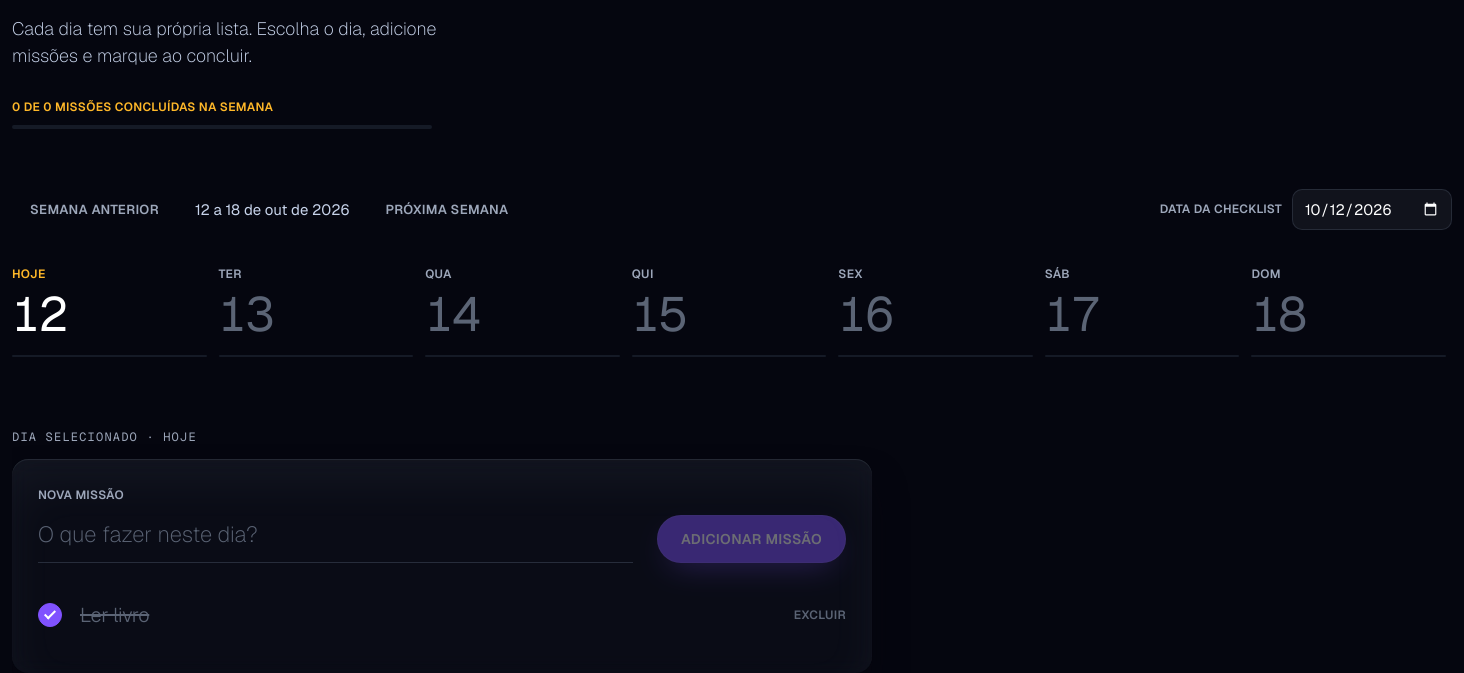
Test: ChecklistPage › shows completed items and allows toggling them back and deleting
(page scrolled)
Click the checkbox labelled "Ler livro" at {"x": 50, "y": 615}, box [38,603,62,627]
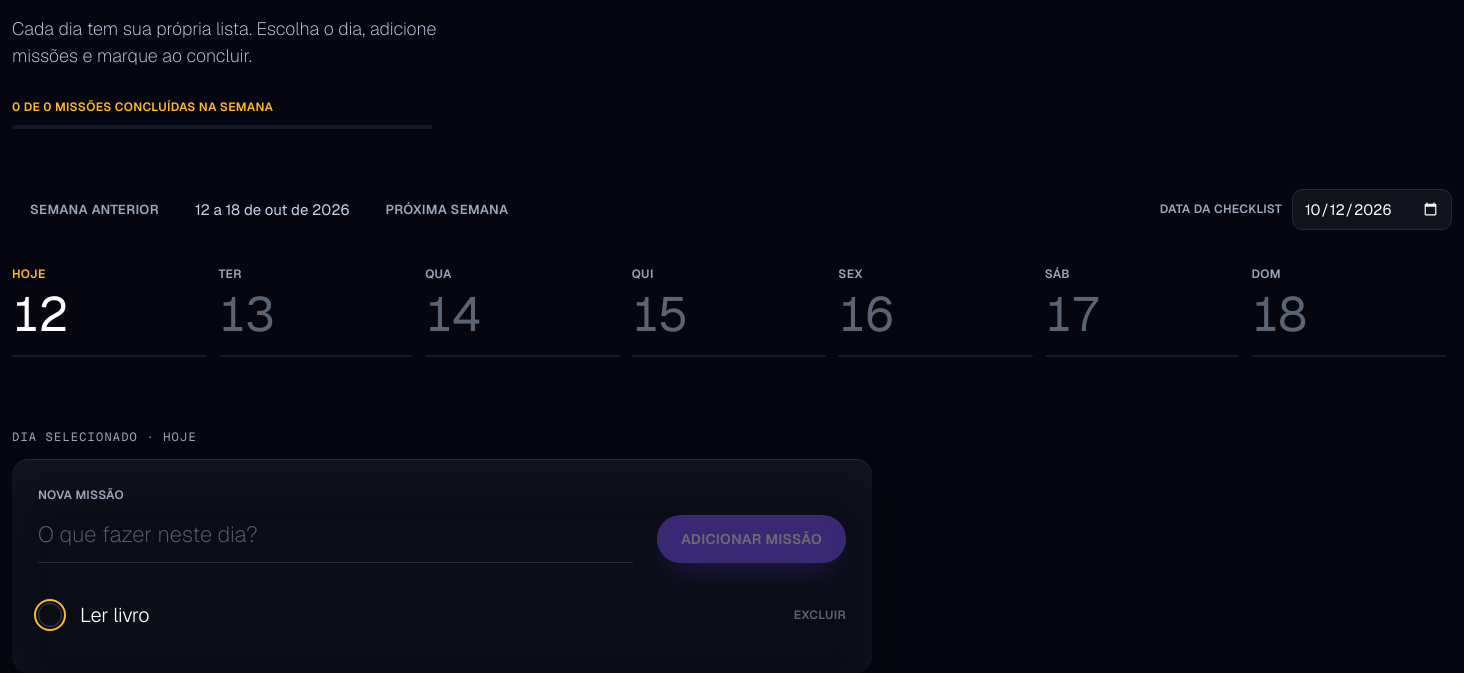
Result: the checkbox labelled "Ler livro" is not checked at [38,603,62,627]
Click the button with aria-label "Excluir Ler livro" at {"x": 820, "y": 615}, box [794,595,846,635]
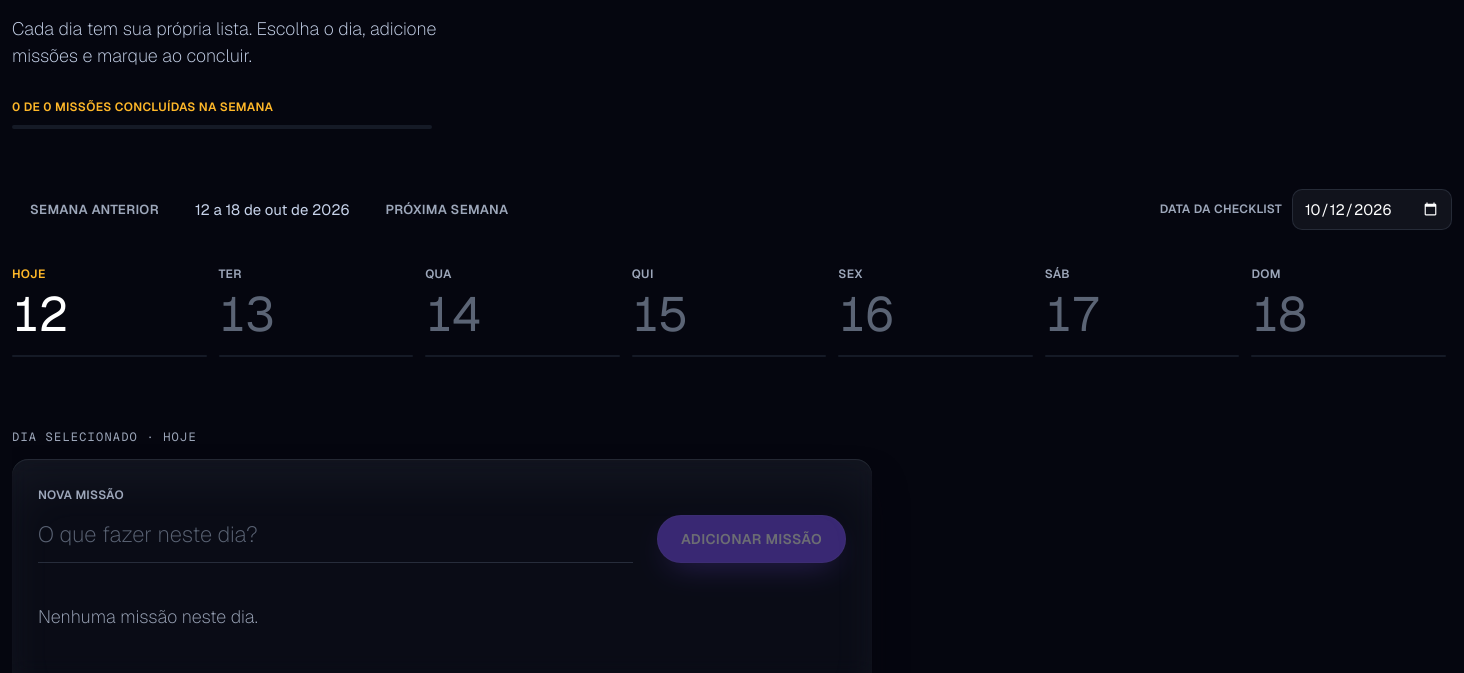
Result: the text "Ler livro" is gone
